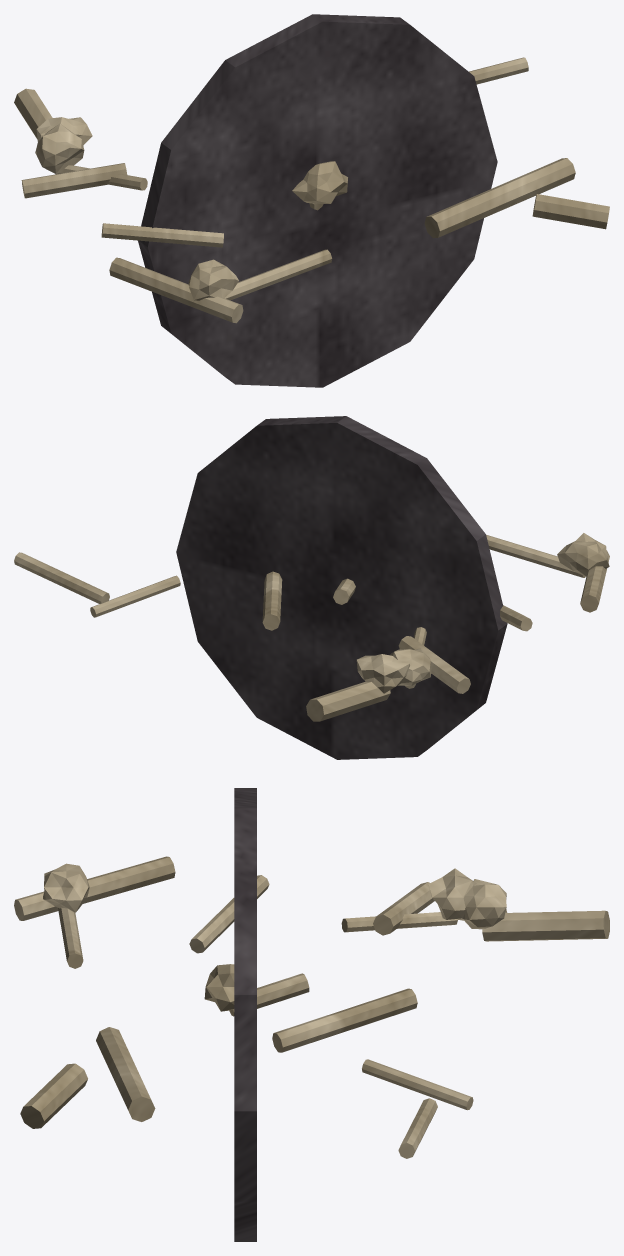
File: 0242_bone_heap_17.glb
The picture shows the model from 3 angles, top to bottom: view 1: azimuth 30°, elevation 25°; view 2: azimuth 150°, elevation 25°; view 3: azimuth 270°, elevation 25°; orthographic projection. The views are drawn at different scales.
Visible parts, largest first — view 1: ash, bone; view 2: ash, bone; view 3: bone, ash.
Part boxes in pixels (box(x1,y1,x2,y2)): ash: box(138, 14, 497, 387); bone: box(14, 57, 609, 323); ash: box(176, 416, 507, 759); bone: box(14, 533, 609, 721); bone: box(14, 856, 609, 1158); ash: box(234, 788, 256, 1241).
Bounding box in the file's own units: 2.4 × 1.6 × 2.09.
Materials: 2 (2 with a texture image).
